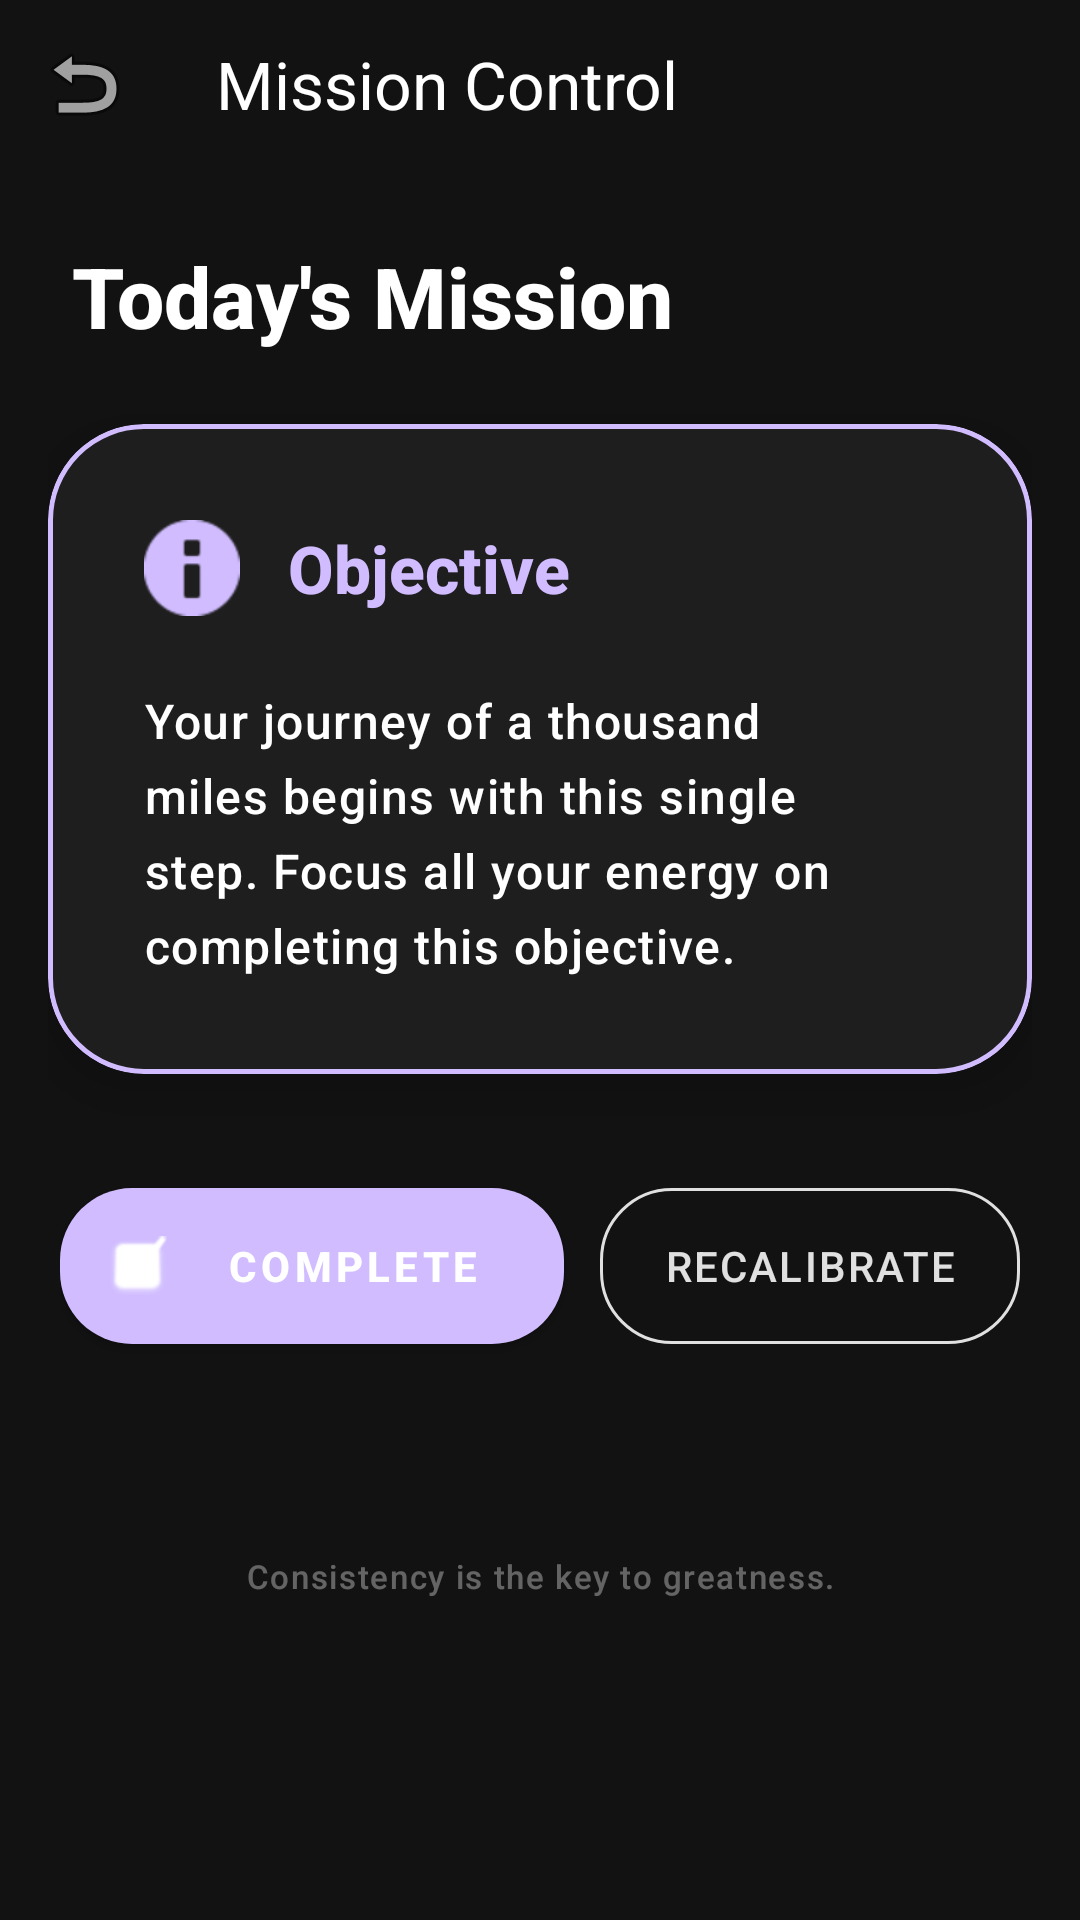

Screen size 1080x1920. Icon name, then its center in pixels as [x,y]:
info: [192,568]
